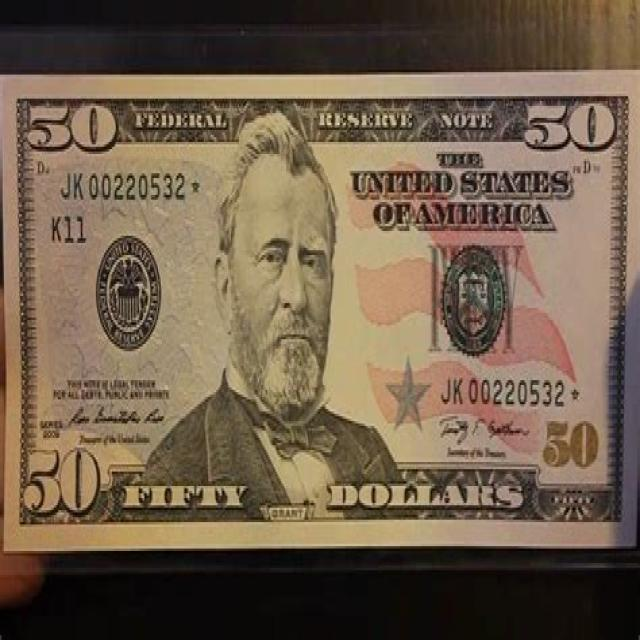Fifty: (1, 82, 638, 546)
